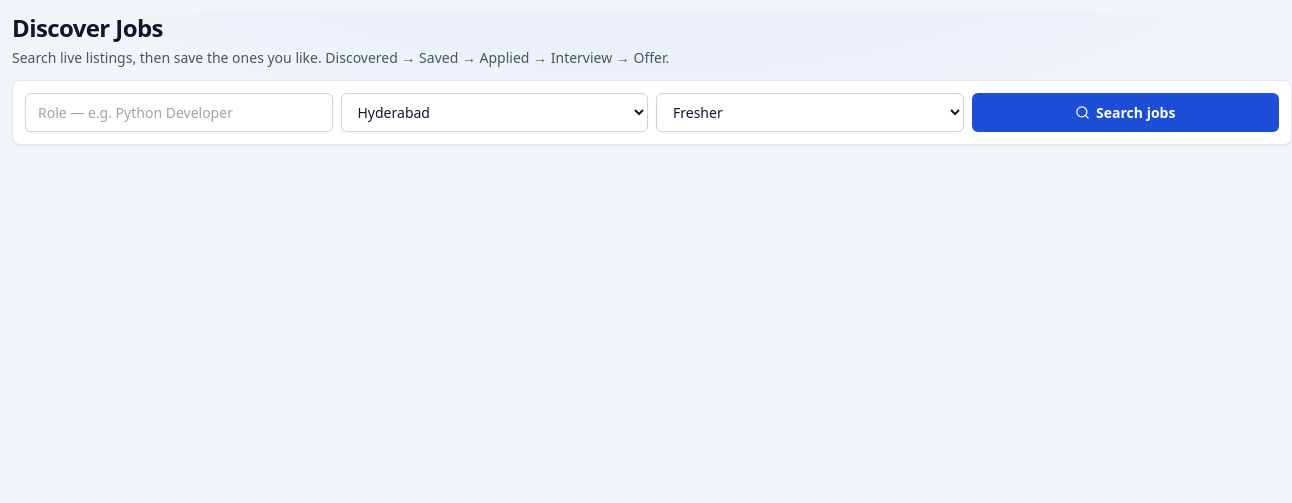
Test: Discover Jobs (native) › searches, shows results with details, and saves
Type "Python Developer" into the field named "Role or keywords" at [179, 112], box [25,93,332,132]
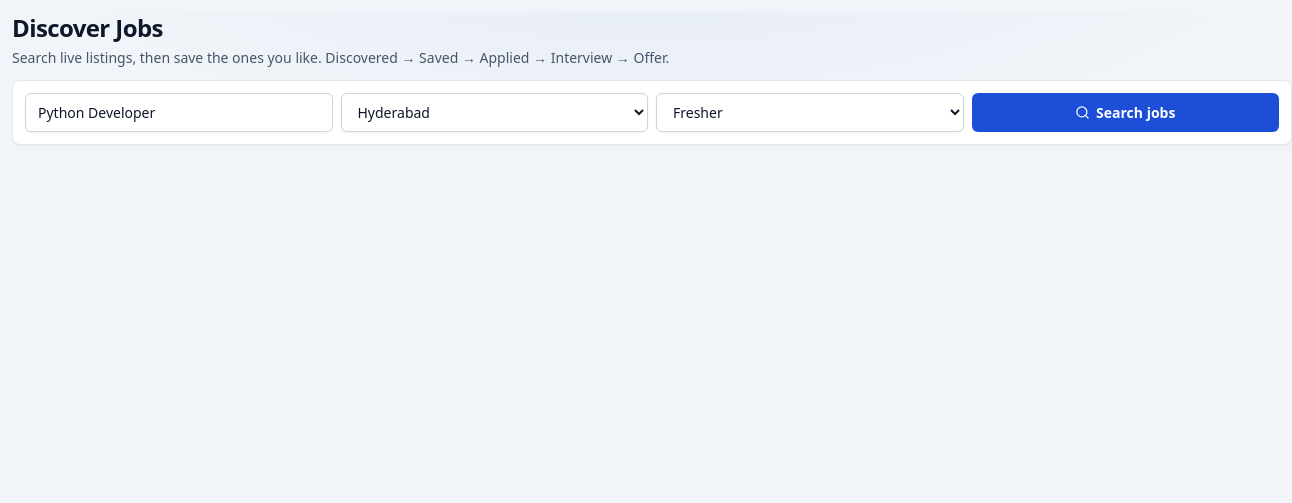
Click the button "Search jobs" at [1125, 112], box [972,93,1279,132]
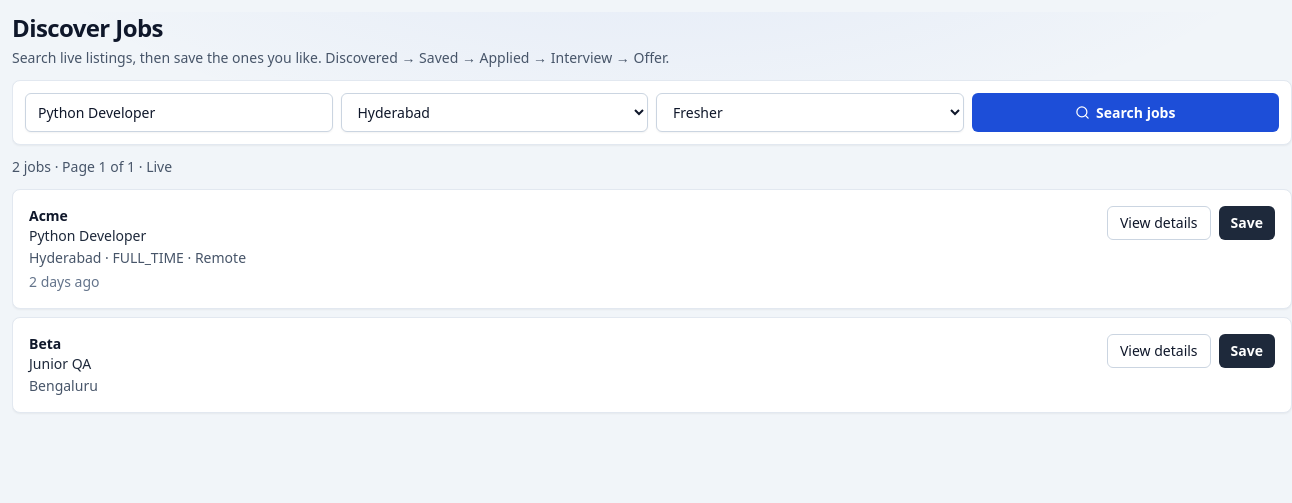
Check: the text "Acme" is shown, box [29,206,68,225]
Check: the text "Hyderabad · FULL_TIME · Remote" is shown, box [29,248,246,267]
Click the button "View details" in the row of "Python Developer" at [1159, 223], box [1107,206,1211,240]
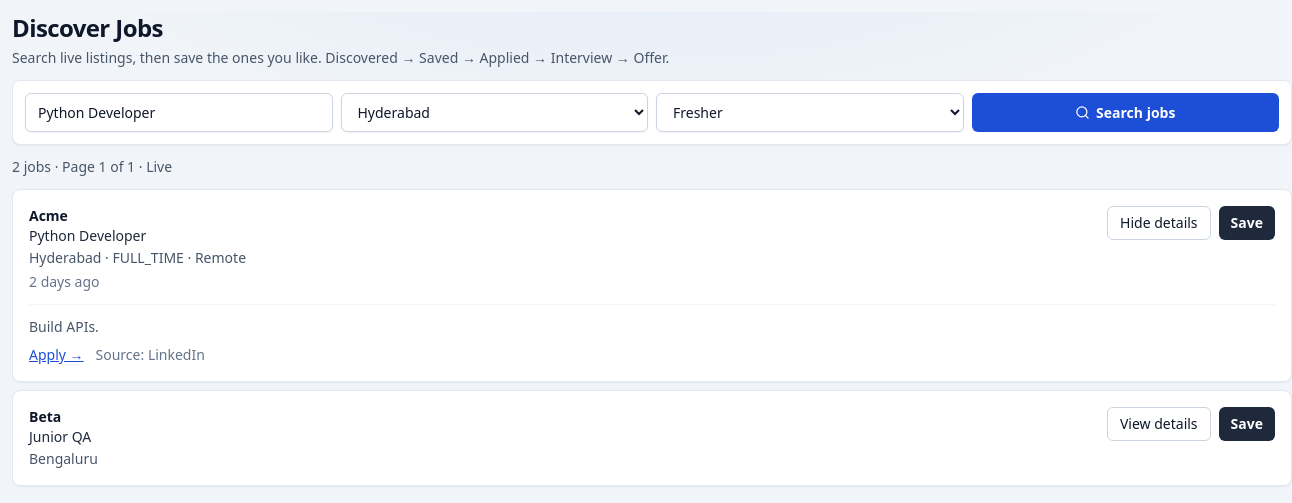
Check: the link "Apply →" is shown, box [29,345,84,365]
Click the button "Save" in the row of "Python Developer" at [1247, 223], box [1219,206,1275,240]
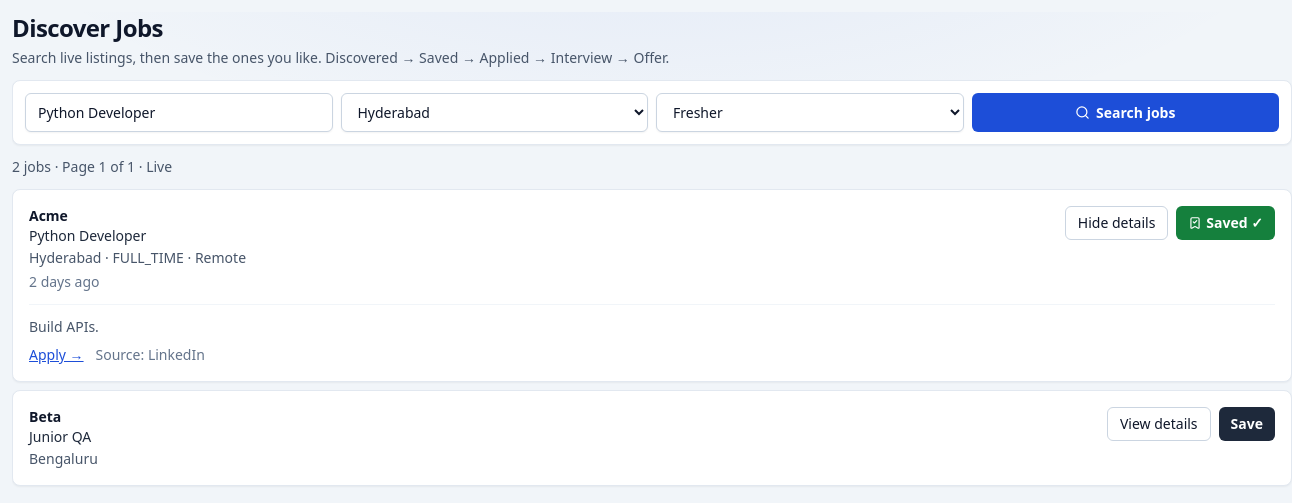
Check: the link "Saved ✓" is shown, box [1176,206,1275,240]
